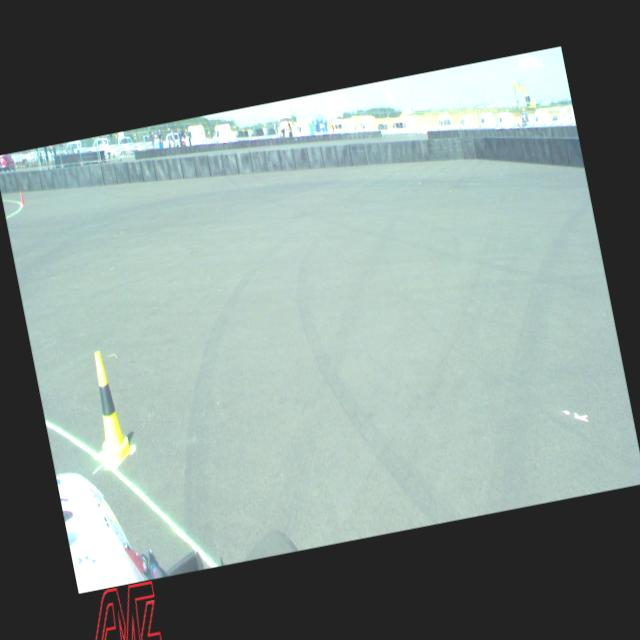unknown_cone: (18, 190, 26, 206)
yellow_cone: (81, 347, 136, 467)
